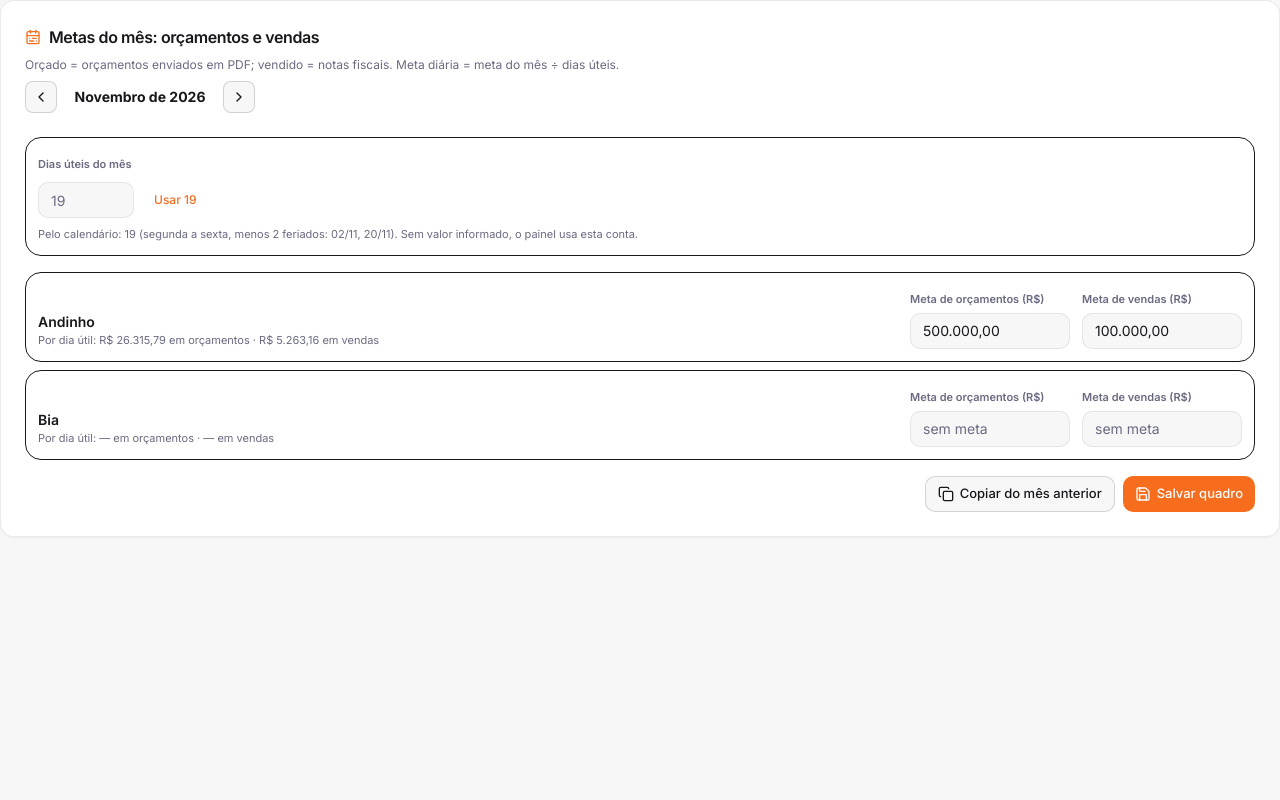
Scenario: MonthlyGoalsBoard › blocks invalid business days and amounts
Expected: the text "Pelo calendário: 19" is shown, [38,227,638,241]
Type "40" into the number field labelled "Dias úteis do mês".
click(86, 200); type("40")  # box [38,182,134,218]
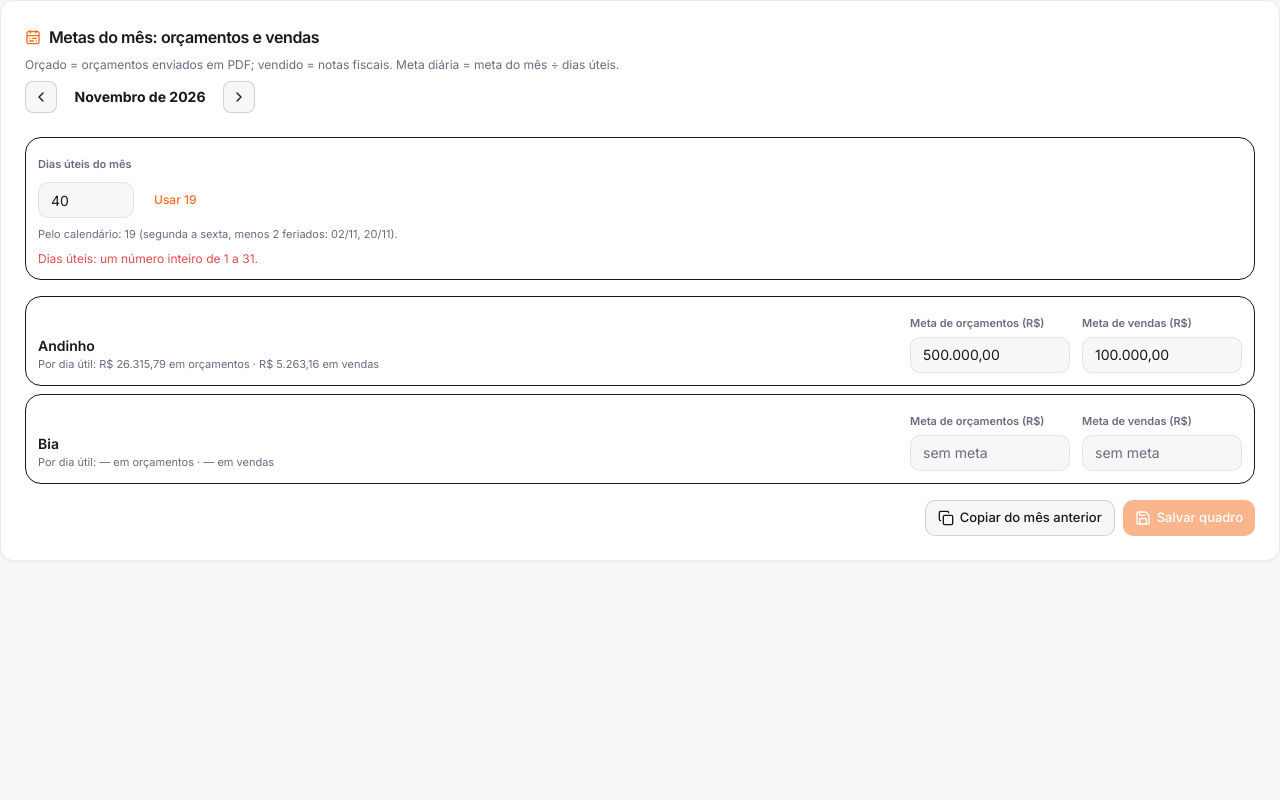
Expected: the message reads "Dias úteis: um número inteiro de 1 a 31.", [38,250,258,266]
Clear the number field labelled "Dias úteis do mês" at (86, 200), box [38,182,134,218]
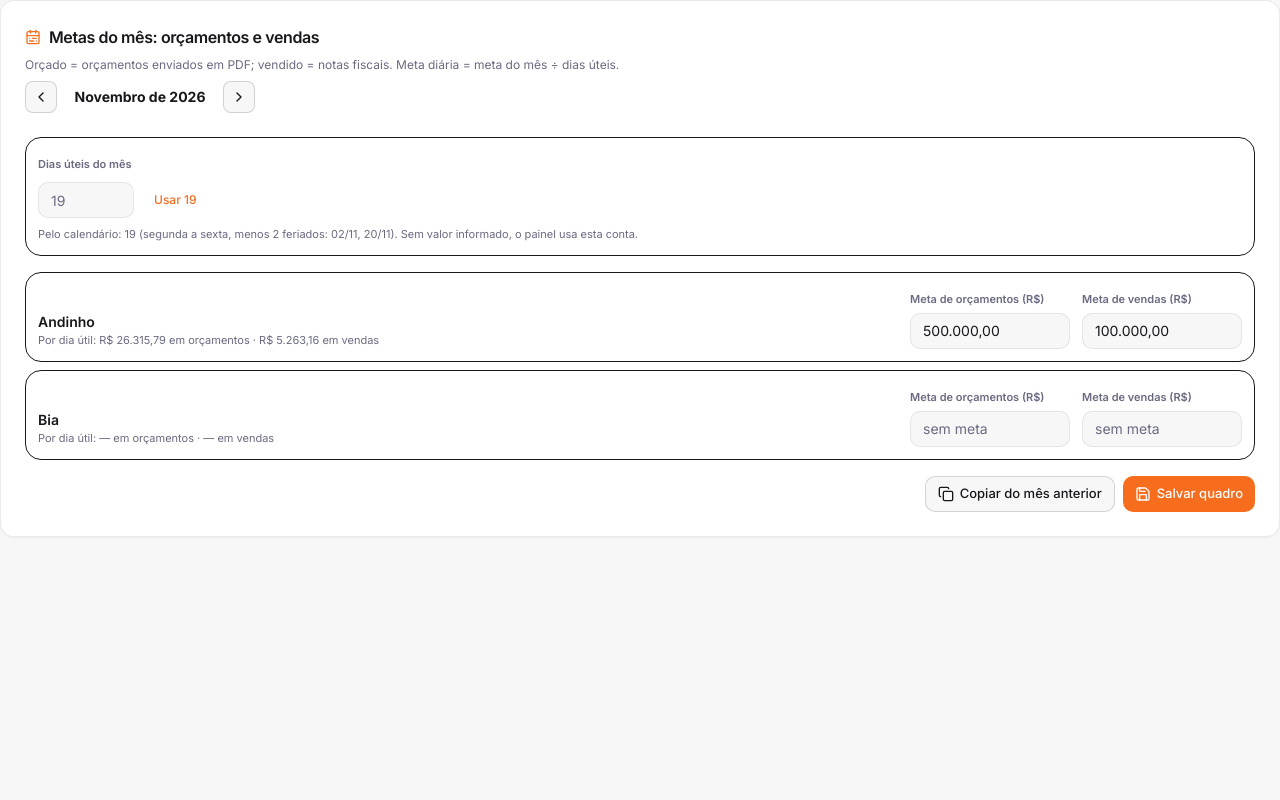
Type "muito" into the field labelled "Meta de vendas (R$)" in the row of "Bia".
click(1162, 428); type("muito")  # box [1082,410,1242,446]
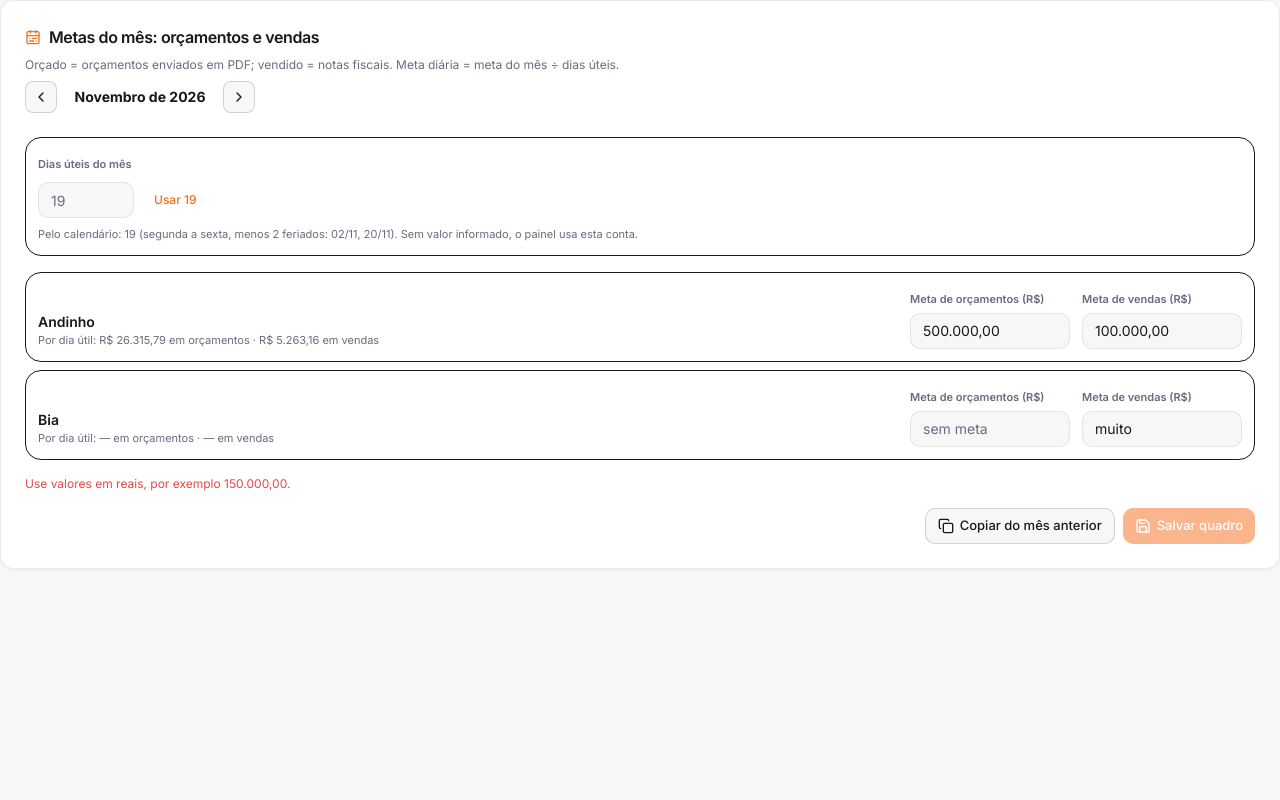
Expected: the message shows "Use valores em reais", [25,476,290,490]
Expected: the button "Salvar quadro" is disabled, [1123,508,1255,544]
